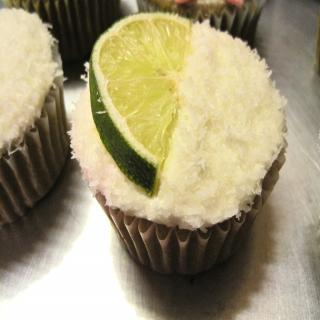Lemon: (87, 8, 191, 196)
Muffin: (68, 13, 290, 274), (0, 7, 71, 227), (1, 0, 117, 72), (136, 0, 266, 41)
